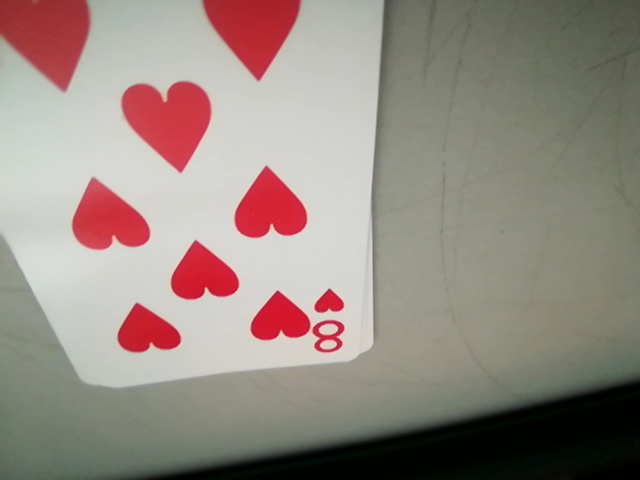hx 8: (311, 282, 355, 353)
